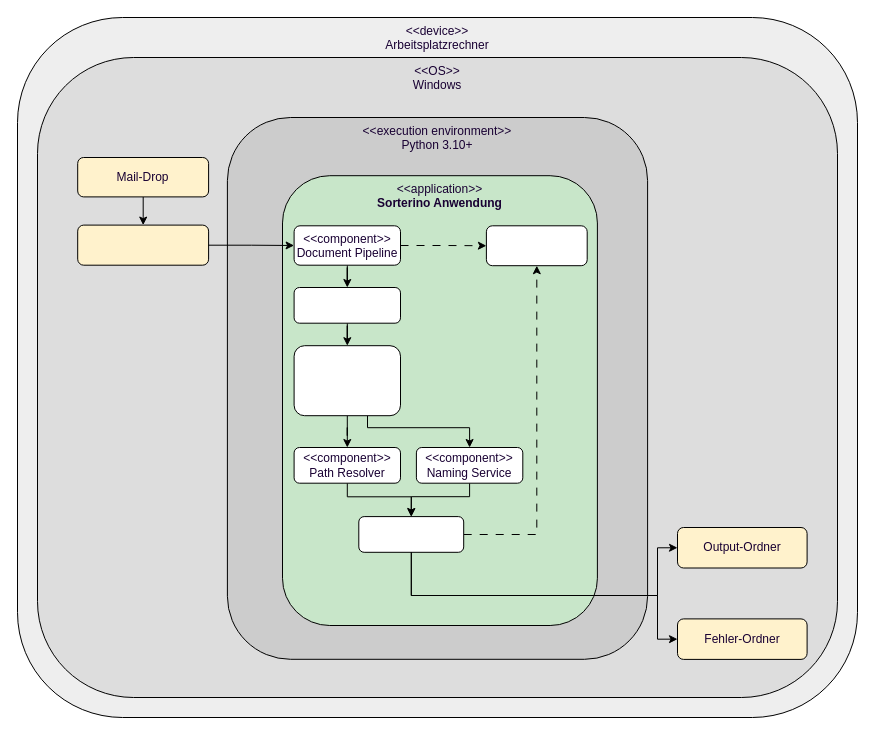
Image size: 875x735. Some labels were removed from this diagram. The centre of each missing label's shape, as x and y in pixels:
"<<component>> Classification & Metadata Extraction" belongs at point 346,380.
"<<component>> Logger" belongs at point 536,245.
"<<component>> OCR Service" belongs at point 346,304.
"<<component>> Storage" belongs at point 411,534.
"Input-Ordner" belongs at point 143,244.
